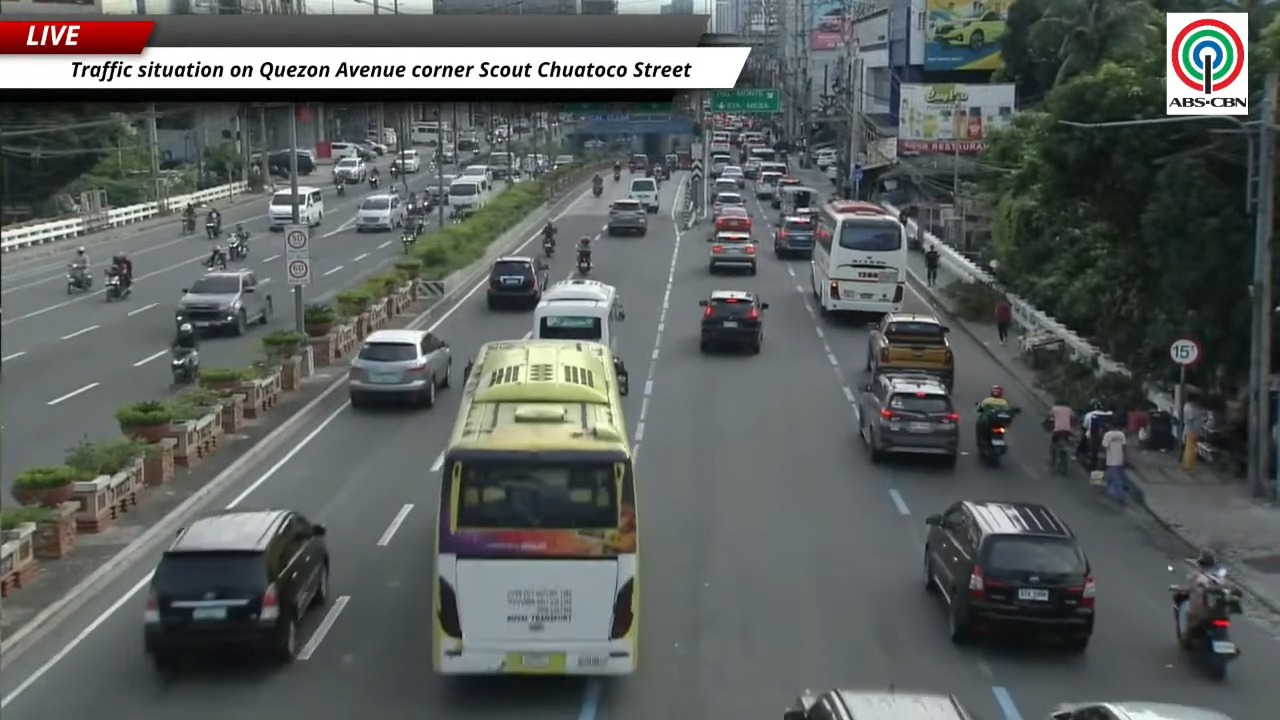bus: (434, 339, 639, 675), (811, 200, 907, 319), (530, 278, 624, 351), (410, 121, 451, 146)
car: (143, 509, 329, 671), (923, 500, 1095, 651), (854, 373, 959, 466), (348, 329, 451, 407), (865, 312, 954, 387), (175, 270, 272, 335), (782, 688, 974, 719), (699, 290, 768, 353), (486, 256, 548, 309), (1050, 701, 1230, 719), (932, 10, 1006, 50), (708, 231, 756, 274), (773, 215, 816, 258), (356, 193, 404, 231), (606, 198, 647, 235), (268, 150, 316, 176), (714, 205, 751, 234), (424, 173, 458, 204), (771, 176, 799, 208), (333, 156, 366, 183), (712, 192, 745, 217), (755, 171, 782, 198), (393, 149, 420, 172), (720, 165, 745, 188), (708, 154, 731, 178), (351, 141, 378, 161), (711, 177, 737, 196), (815, 149, 837, 170), (363, 138, 388, 155), (709, 138, 731, 156), (436, 145, 456, 163), (457, 135, 479, 151), (629, 154, 648, 171), (553, 154, 575, 168)
motorcycle: (1169, 568, 1242, 679), (975, 407, 1020, 465), (171, 353, 198, 386), (66, 265, 92, 293), (104, 270, 127, 301), (227, 232, 248, 261), (204, 250, 227, 270), (401, 226, 416, 254), (577, 253, 591, 275), (205, 218, 220, 238), (181, 215, 195, 234), (542, 237, 554, 257), (389, 162, 399, 180), (335, 182, 345, 196), (592, 184, 602, 197), (368, 176, 378, 189), (613, 170, 621, 182)
